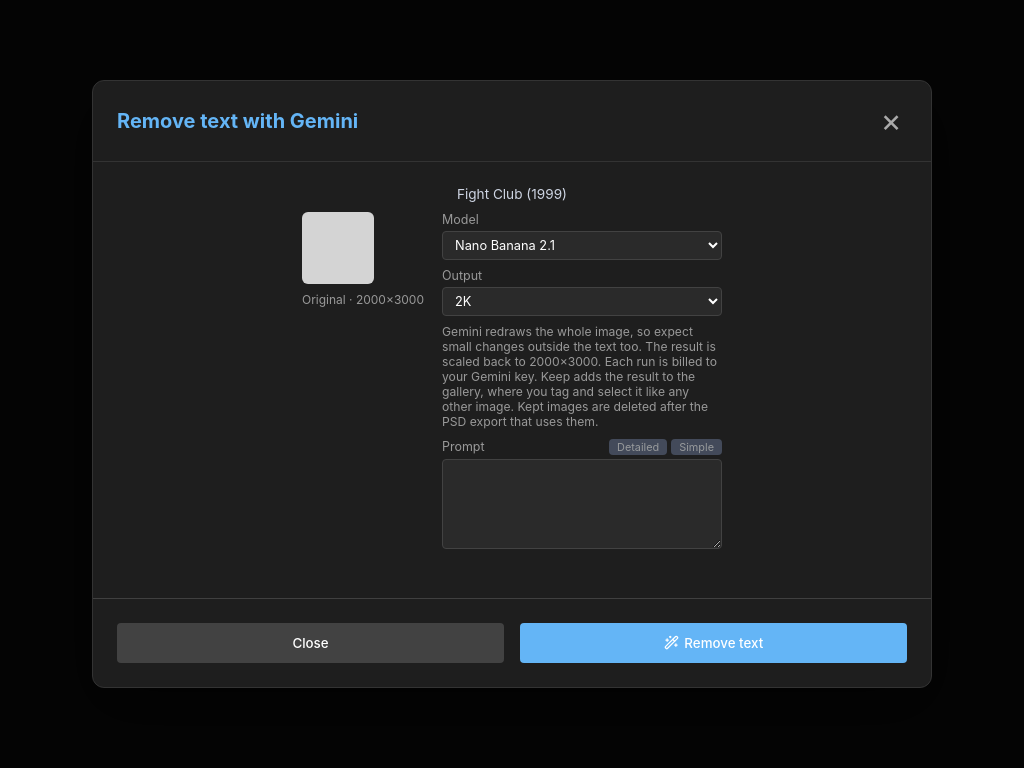
Scenario: GeminiImageModal › shows the API error and keeps the controls usable
This screenshot has width=1024, height=768.
Step 1. Click the button "Remove text" → (714, 643), box top-left (520, 623), bottom-right (907, 663)
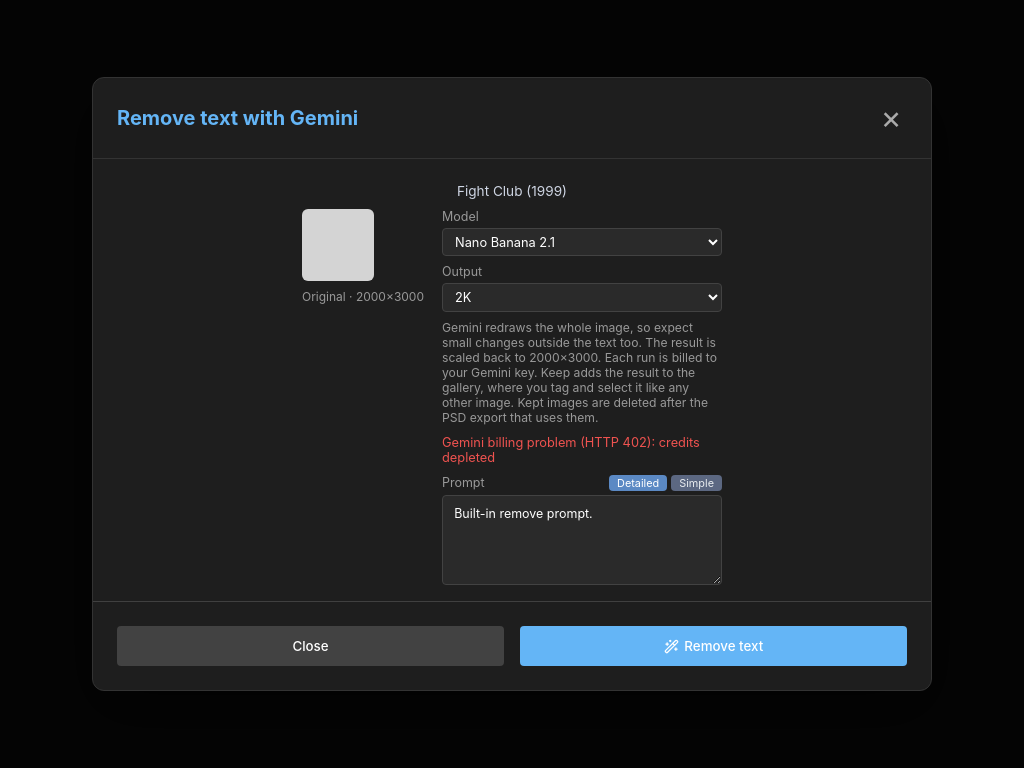
Check: the text "Gemini billing problem (HTTP 402): credits depleted" is shown, box top-left (442, 435), bottom-right (722, 465)
